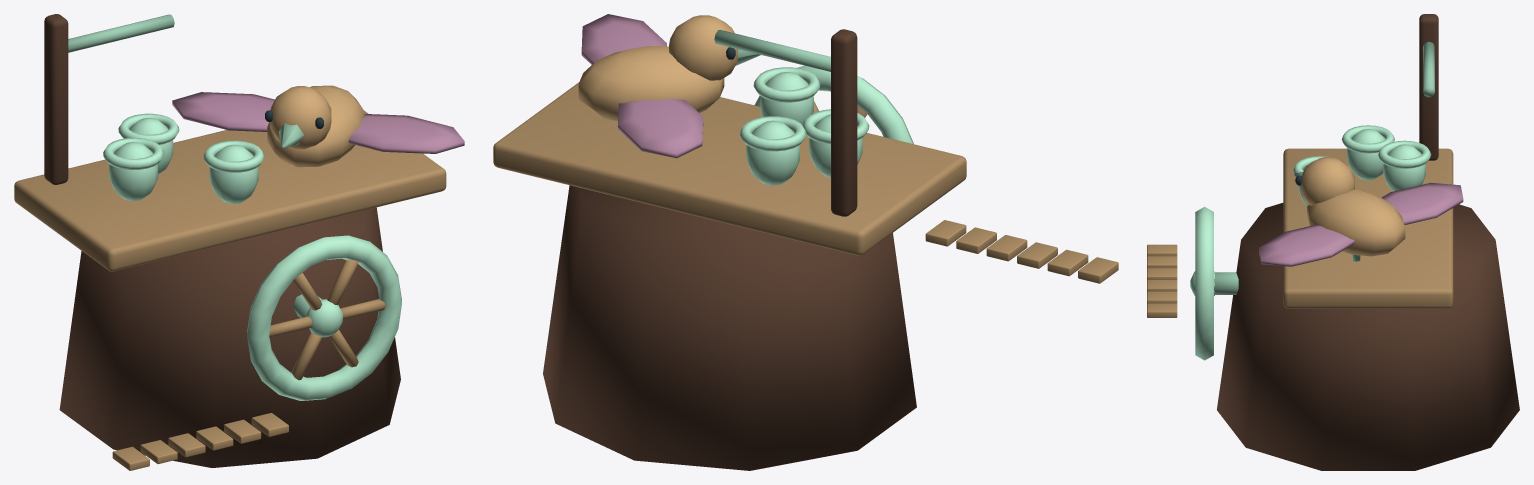
Rendered from discovery_woodpecker.glb.
3 views of the same model, side by side, from view 1: azimuth 30°, elevation 25°; view 2: azimuth 150°, elevation 25°; view 3: azimuth 270°, elevation 25° (orthographic). The views are drawn at different scales.
Parts seen in each view (by area): view 1: discovery_woodpecker_part_0, discovery_woodpecker_part_1, discovery_woodpecker_part_2, discovery_woodpecker_part_3, discovery_woodpecker_part_4; view 2: discovery_woodpecker_part_0, discovery_woodpecker_part_2, discovery_woodpecker_part_4, discovery_woodpecker_part_3, discovery_woodpecker_part_1; view 3: discovery_woodpecker_part_0, discovery_woodpecker_part_2, discovery_woodpecker_part_1, discovery_woodpecker_part_3, discovery_woodpecker_part_4.
Part boxes in pixels (x1,y1,x2,y2): discovery_woodpecker_part_0: [14, 14, 446, 470]; discovery_woodpecker_part_1: [247, 235, 401, 400]; discovery_woodpecker_part_2: [265, 85, 364, 167]; discovery_woodpecker_part_3: [348, 114, 464, 153]; discovery_woodpecker_part_4: [172, 92, 274, 131]; discovery_woodpecker_part_0: [493, 29, 1118, 470]; discovery_woodpecker_part_2: [578, 15, 760, 121]; discovery_woodpecker_part_4: [618, 99, 703, 158]; discovery_woodpecker_part_3: [581, 14, 666, 64]; discovery_woodpecker_part_1: [754, 65, 913, 144]; discovery_woodpecker_part_0: [1147, 14, 1519, 470]; discovery_woodpecker_part_2: [1294, 157, 1405, 256]; discovery_woodpecker_part_1: [1190, 206, 1214, 360]; discovery_woodpecker_part_3: [1259, 224, 1354, 266]; discovery_woodpecker_part_4: [1381, 182, 1463, 224].
Bounding box in the file's own units: 3.36 × 3.05 × 3.07.
